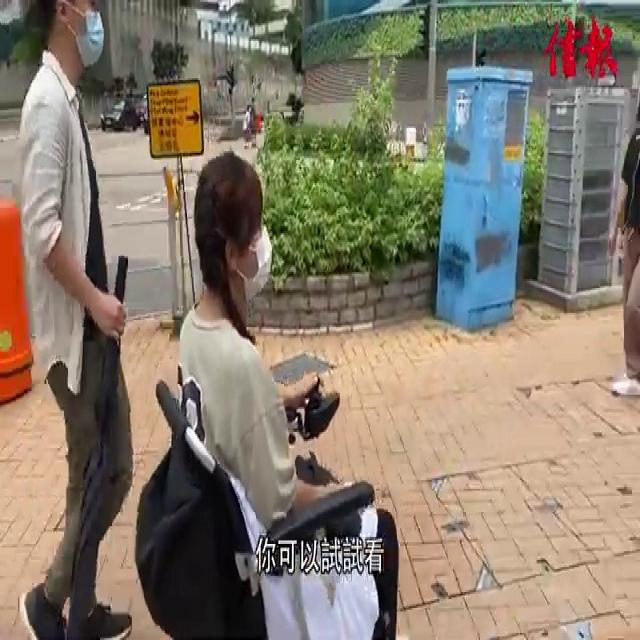wheelchairs: (117, 345, 419, 640)
